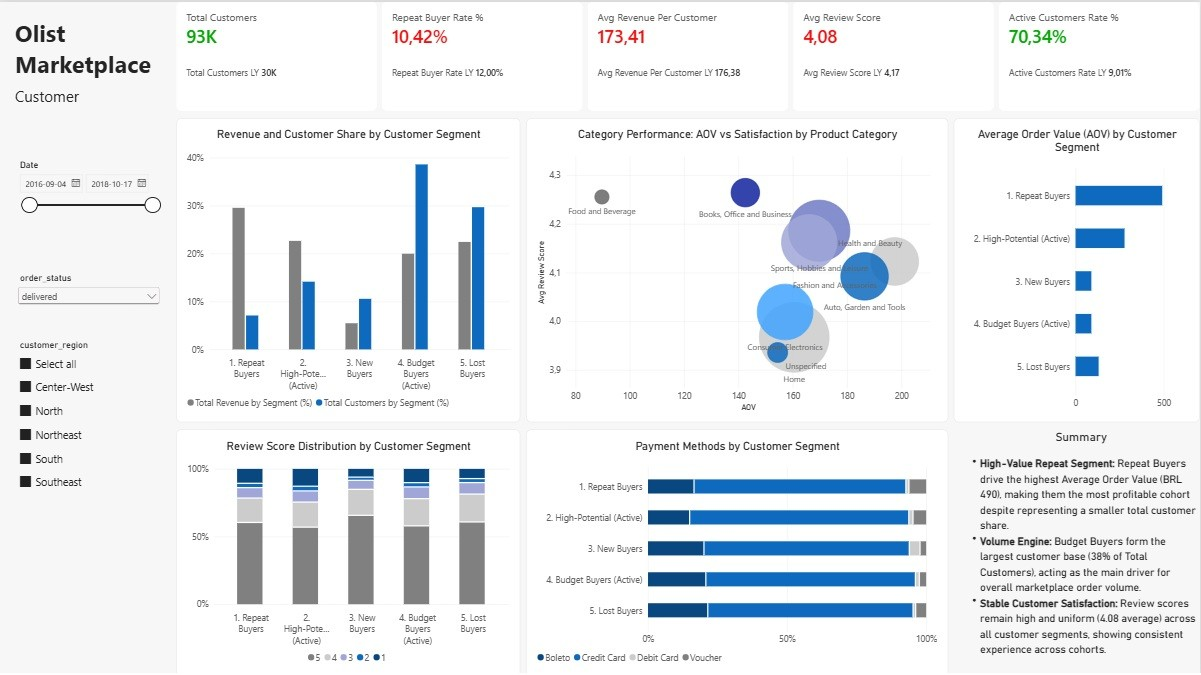

The page's visual inventory and layout, read from the dashboard file:
{"tool":"powerbi","page":{"name":"Customer","canvas":[1920,1080],"ordinal":1},"visuals":[{"type":"textbox","box":[24,24,238,110],"z":0},{"type":"slicer","fields":{"Values":["sales.order_status"]},"box":[24.4,431.7,236.6,82.9],"z":1000},{"type":"textbox","box":[24.7,133.8,236.7,82.3],"z":2000},{"type":"slicer","fields":{"Values":["dim_date.Date"]},"box":[24.7,251.1,236.7,150.3],"z":3000},{"type":"slicer","fields":{"Values":["dim_customers.customer_region"]},"box":[24.7,539.3,236.7,269.6],"z":4000},{"type":"clusteredColumnChart","title":"Revenue and Customer Share by Customer Segment","fields":{"Category":["dim_customers.Customer Segment"],"Y":["sales.% Total Revenue by Segment","sales.% Total Customers by Segment"]},"box":[281.7,186.7,550,486.7],"z":5000},{"type":"textbox","box":[1540,684,380,396],"z":6000},{"type":"cardVisual","fields":{"Data":["sales.Total Customers","sales.Repeat Buyer Rate %","sales.Avg Revenue Per Customer","sales.Avg Review Score","sales.Active Customers Rate %"]},"box":[281.9,0,1637.7,174.3],"z":7000},{"type":"hundredPercentStackedColumnChart","title":"Review Score Distribution by Customer Segment","fields":{"Category":["dim_customers.Customer Segment"],"Series":["sales.review_score"],"Y":["sales.Total Orders"]},"box":[282.3,684.1,550.1,396.3],"z":8000},{"type":"clusteredBarChart","title":"Average Order Value (AOV) by Customer Segment","fields":{"Category":["dim_customers.Customer Segment"],"Y":["sales.AOV"]},"box":[1526.7,186.7,393.3,486.7],"z":9000},{"type":"scatterChart","title":"Category Performance: AOV vs Satisfaction by Product Category","fields":{"X":["sales.AOV"],"Y":["sales.Avg Review Score"],"Size":["sales.Total Revenue"],"Series":["dim_products.main_category"]},"box":[841.7,186.7,675,486.7],"z":10000},{"type":"hundredPercentStackedBarChart","title":"Payment Methods by Customer Segment","fields":{"Series":["sales.payment_type"],"Category":["dim_customers.Customer Segment"],"Y":["sales.Total Orders"]},"box":[841.2,683.8,675,396.3],"z":11000}]}

Visuals, with their boxes in screenshot pixels (x1, y1, x2, y2), scaled from the page's 1920x1080 canvas onto the 1201x675 screenshot:
textbox: BBox(15, 15, 164, 84)
slicer - sales.order_status: BBox(15, 270, 163, 322)
textbox: BBox(15, 84, 164, 135)
slicer - dim_date.Date: BBox(15, 157, 164, 251)
slicer - dim_customers.customer_region: BBox(15, 337, 164, 506)
"Revenue and Customer Share by Customer Segment" clusteredColumnChart: BBox(176, 117, 520, 421)
textbox: BBox(963, 428, 1200, 674)
cardVisual - sales.Total Customers x sales.Repeat Buyer Rate %: BBox(176, 0, 1200, 109)
"Review Score Distribution by Customer Segment" hundredPercentStackedColumnChart: BBox(177, 428, 521, 674)
"Average Order Value (AOV) by Customer Segment" clusteredBarChart: BBox(955, 117, 1200, 421)
"Category Performance: AOV vs Satisfaction by Product Category" scatterChart: BBox(527, 117, 949, 421)
"Payment Methods by Customer Segment" hundredPercentStackedBarChart: BBox(526, 427, 948, 674)
